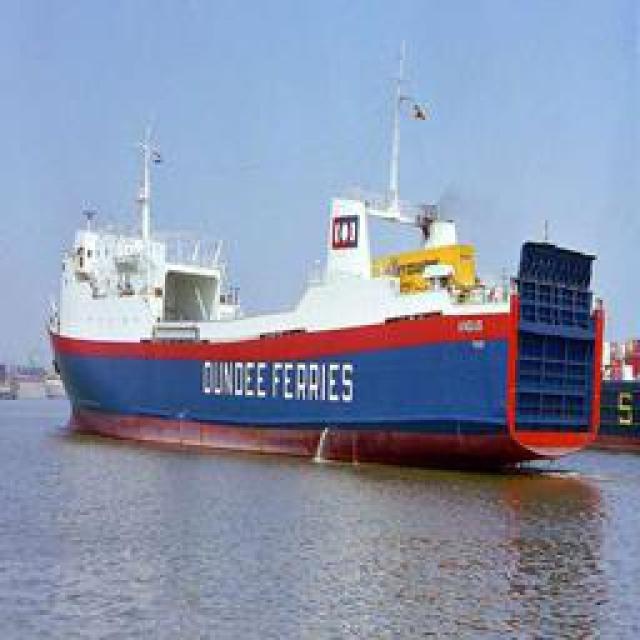Ship: (47, 60, 605, 453)
